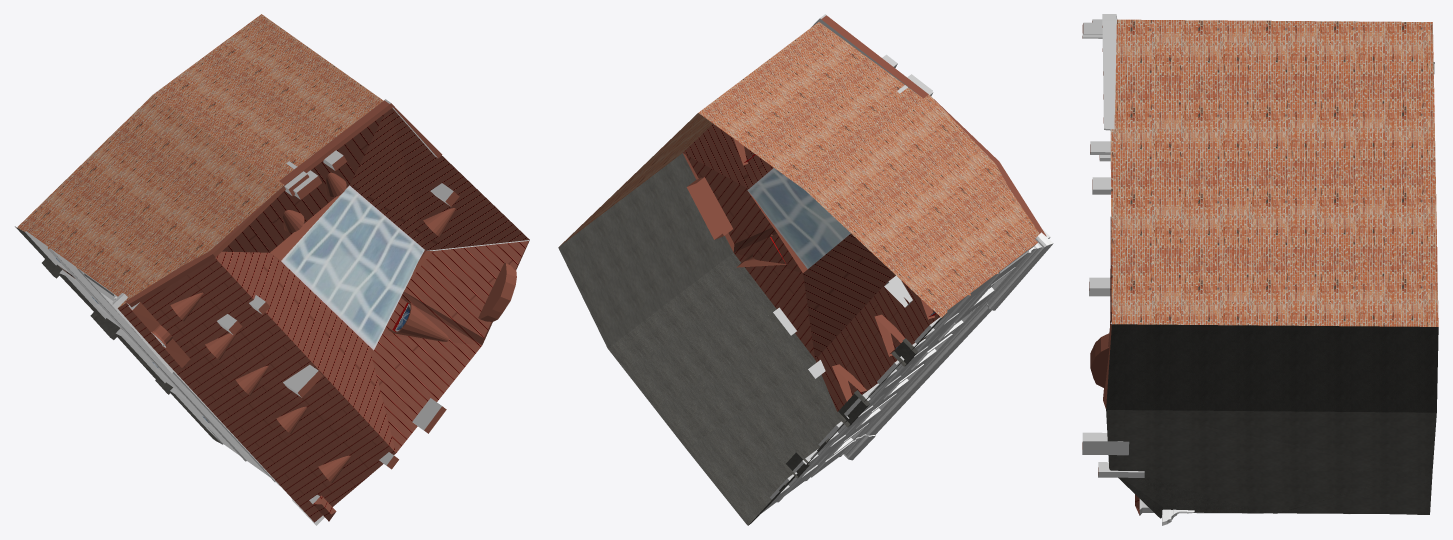
The model's file is Nunne_8.obj.
3 views of the same model, side by side, from view 1: azimuth 30°, elevation 25°; view 2: azimuth 150°, elevation 25°; view 3: azimuth 270°, elevation 25° (orthographic). The views are drawn at different scales.
Visible parts, largest first — view 1: Nunne_8; view 2: Nunne_8; view 3: Nunne_8.
Boxes of the visible parts, x1,y1,x2,y2 form: Nunne_8: (15, 14, 529, 525); Nunne_8: (558, 14, 1053, 525); Nunne_8: (1082, 14, 1438, 525).
Size of the model in its own units: 25.9 by 26.54 by 15.76.
